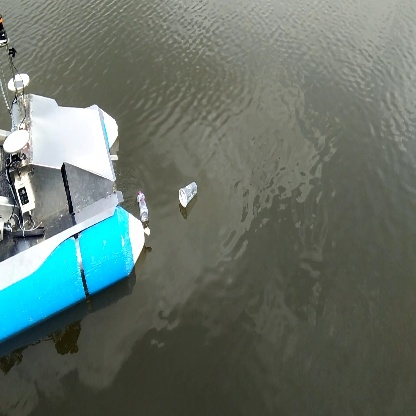bottle: (175, 179, 202, 208)
